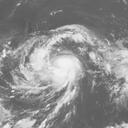cyclone: (29, 24, 96, 92)
